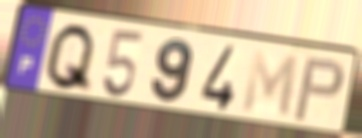4: (199, 44, 239, 113)
5: (101, 29, 145, 100)
9: (148, 36, 196, 106)
M: (239, 47, 301, 122)
P: (291, 56, 346, 125)
Q: (41, 22, 98, 96)
